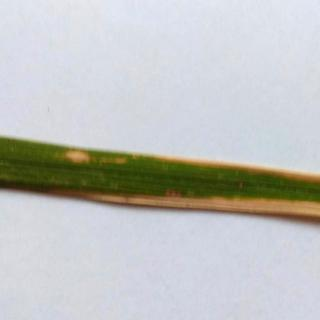Blast: (42, 140, 118, 172)
